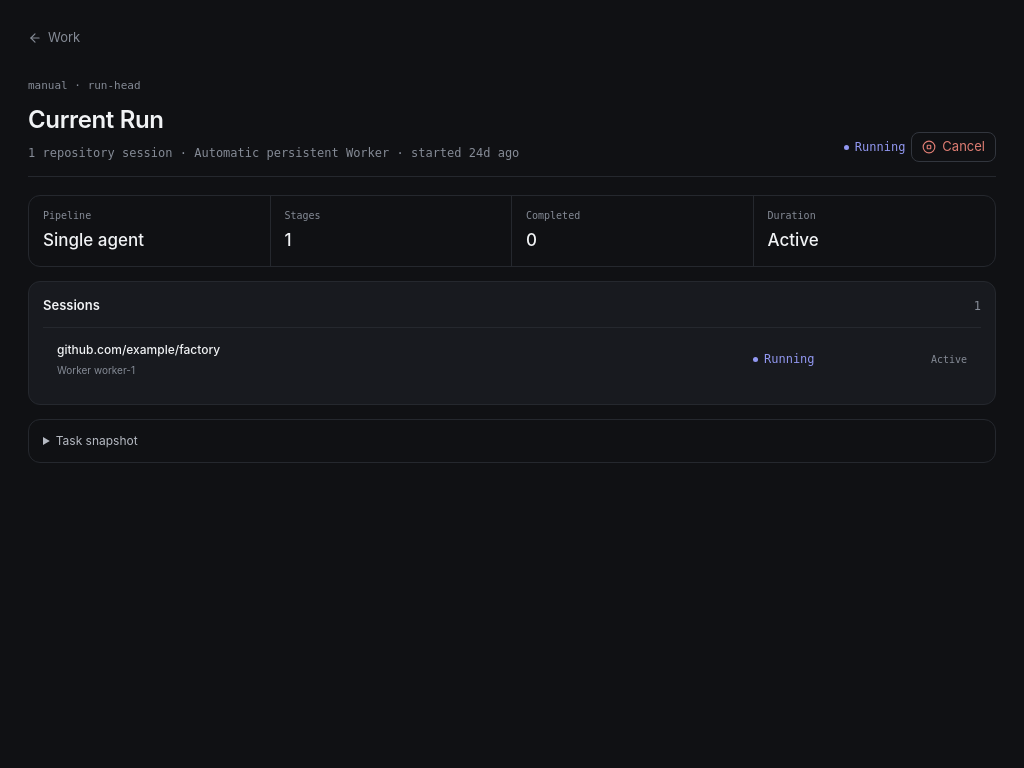
Run detail › fetches final attempt output once when an attempt becomes terminal
The width and height of the screenshot is (1024, 768).
Click the text "github.com/example/factory" at (139, 349), box 57,342 -> 220,356
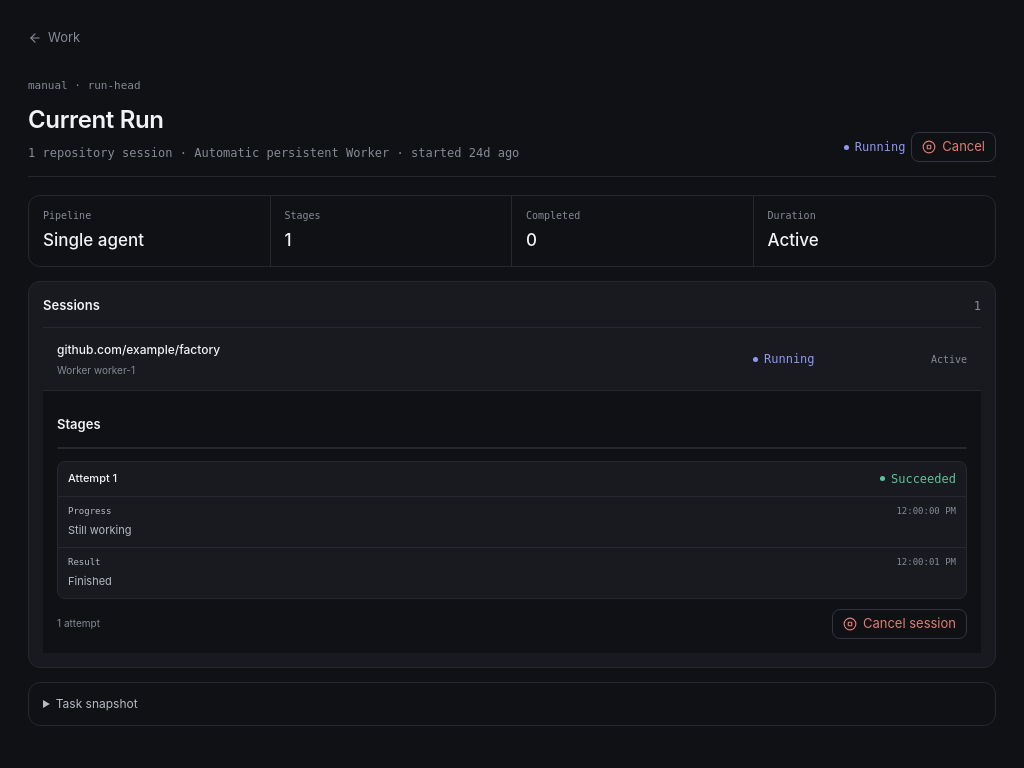
Expected: the text "Still working" is shown, 68,523 -> 131,537
Expected: the text "Finished" is shown, 68,574 -> 112,588
